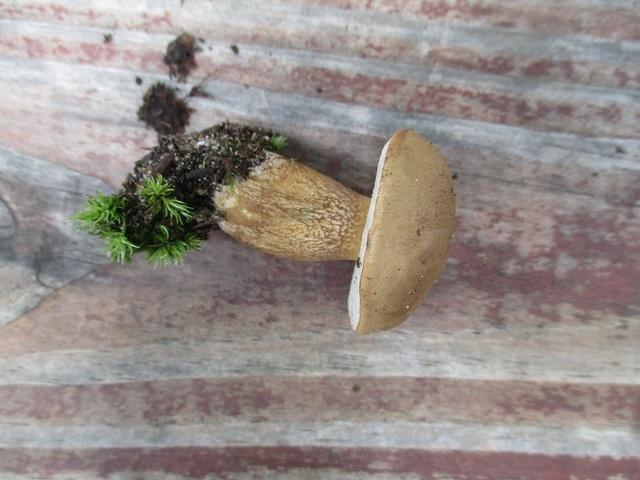Non-edible Mushroom: (210, 126, 457, 334)
